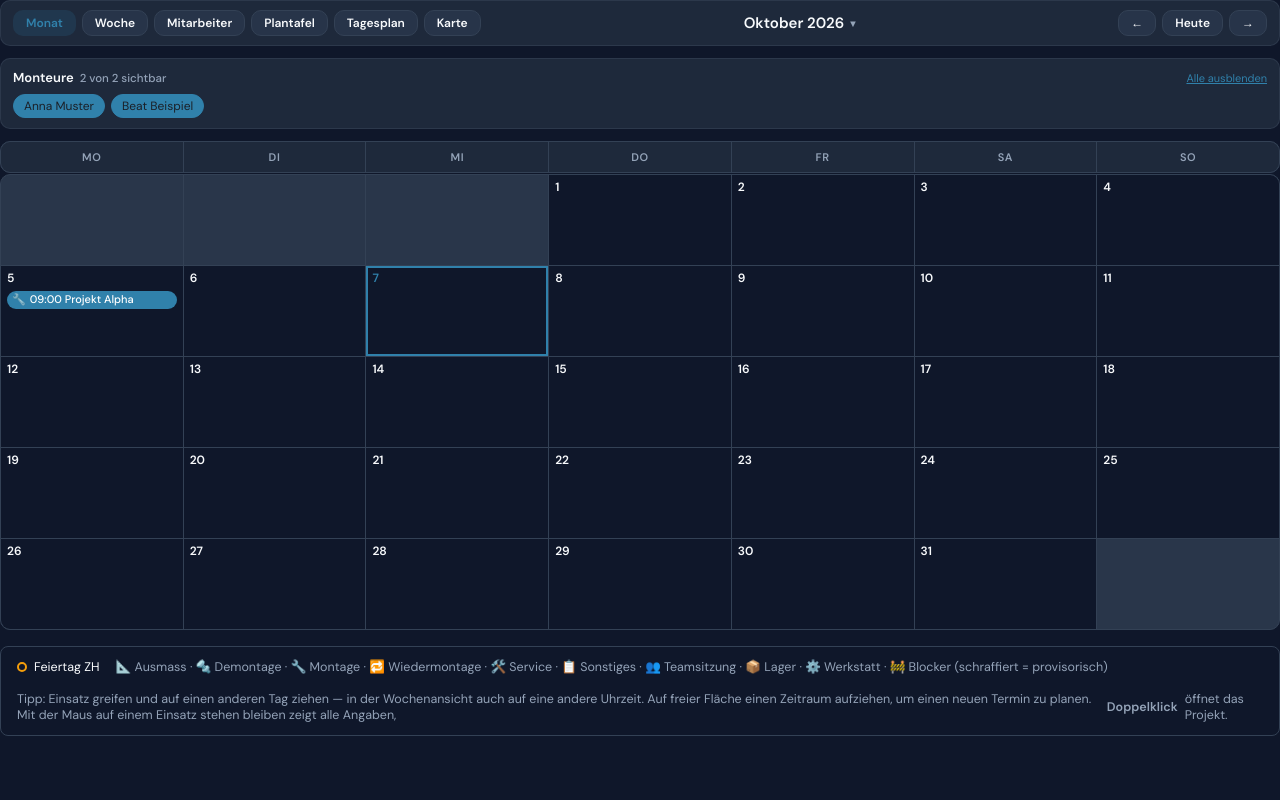
Test: Hover-Karte › verschwindet beim Anfassen, damit sie das Ziehen nicht stört
Click the button "Woche".
click(115, 23)  # box [82,10,148,36]
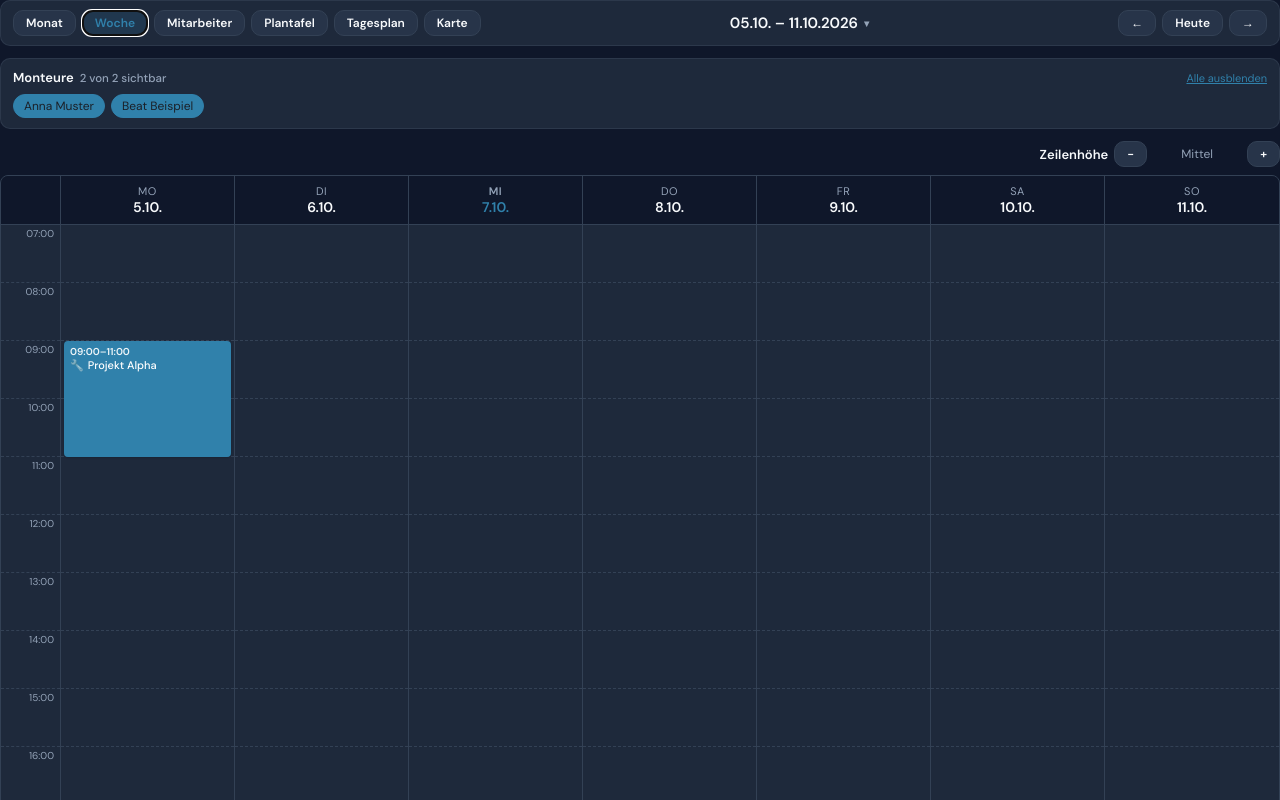
Hover over the element showing "09:00–11:00 🔧Projekt Alpha".
mouse_move(148, 399)  # box [64,341,231,457]
Wait 300 ms
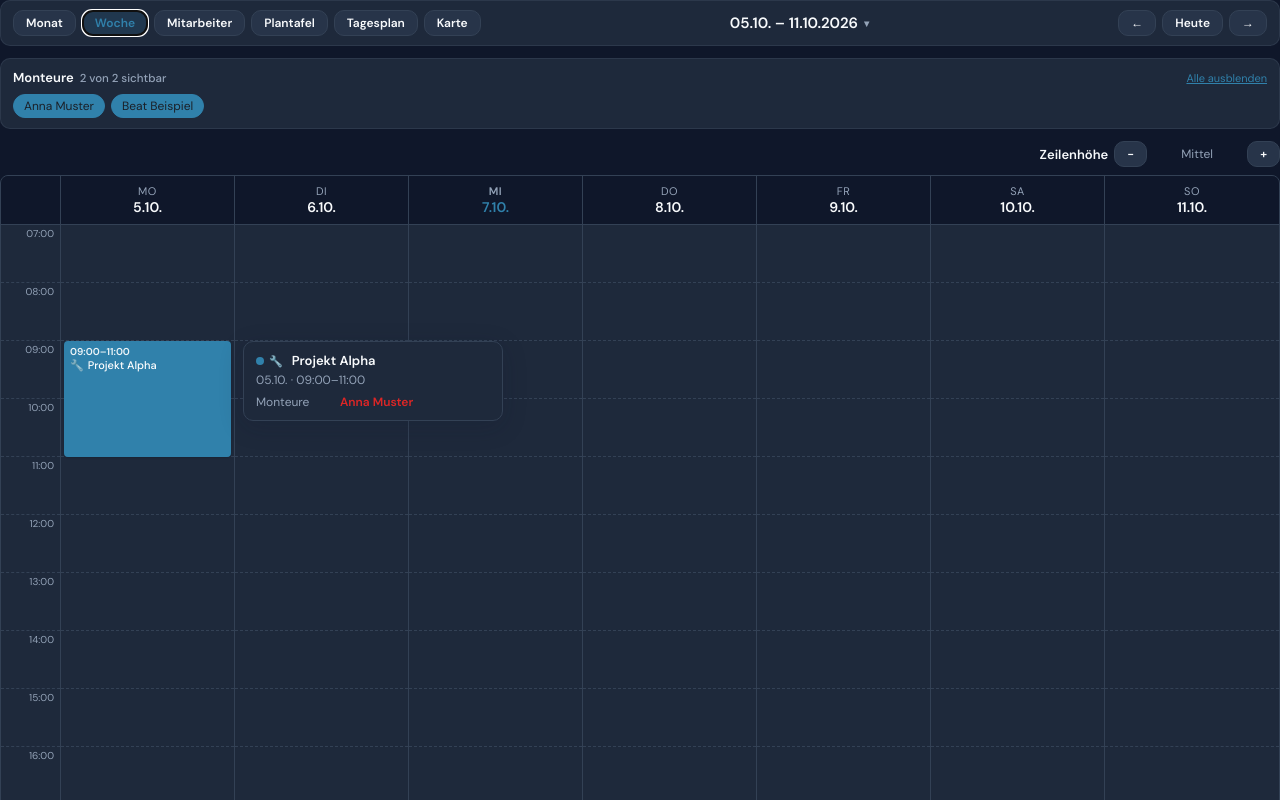
Now the tooltip "🔧 Projekt Alpha 05.10. · 09:00–11:00 Monteure Anna Muster" is shown, box [243,341,503,421]
Press the mouse on the element showing "09:00–11:00 🔧Projekt Alpha" at (148, 399), box [64,341,231,457]
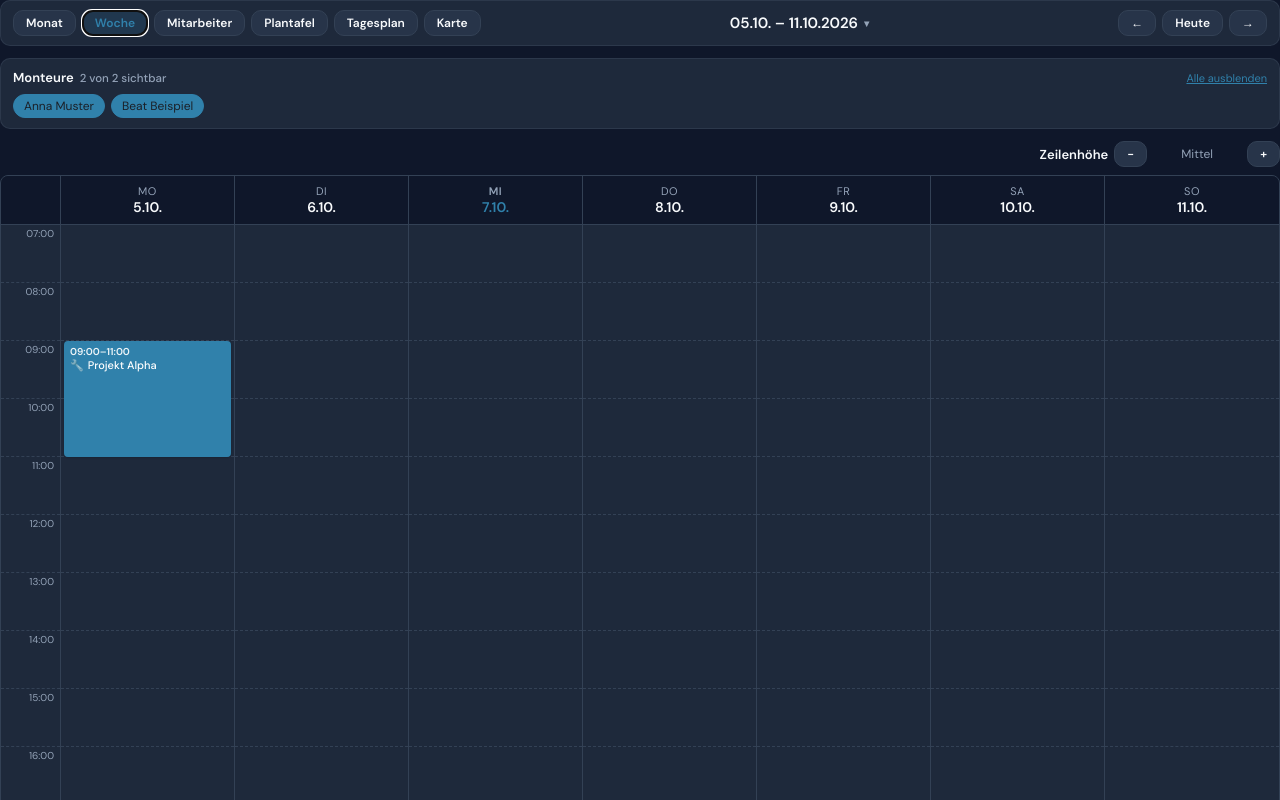
Now the tooltip "🔧 Projekt Alpha 05.10. · 09:00–11:00 Monteure Anna Muster" is gone
